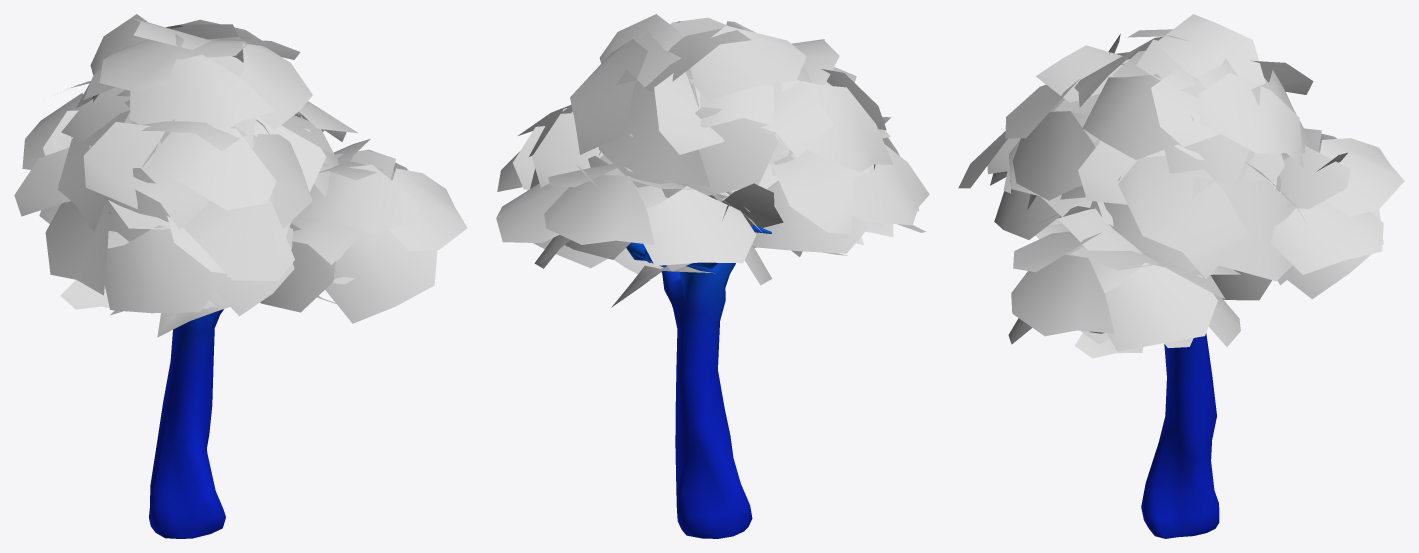
File: m_Oak_A_VP.fbx
3 views of the same model, side by side, from view 1: azimuth 30°, elevation 25°; view 2: azimuth 150°, elevation 25°; view 3: azimuth 270°, elevation 25° (orthographic). The views are drawn at different scales.
Visible parts, largest first — view 1: Oak_A_LeafA, Oak_A; view 2: Oak_A_LeafA, Oak_A; view 3: Oak_A_LeafA, Oak_A.
Part boxes in pixels (x1=…): Oak_A_LeafA: x1=14, y1=14, x2=467, y2=337; Oak_A: x1=149, y1=309, x2=225, y2=538; Oak_A_LeafA: x1=496, y1=14, x2=929, y2=307; Oak_A: x1=626, y1=225, x2=771, y2=538; Oak_A_LeafA: x1=958, y1=14, x2=1404, y2=358; Oak_A: x1=1141, y1=333, x2=1219, y2=538.
Size of the model in its own units: 912 by 1098 by 908.
